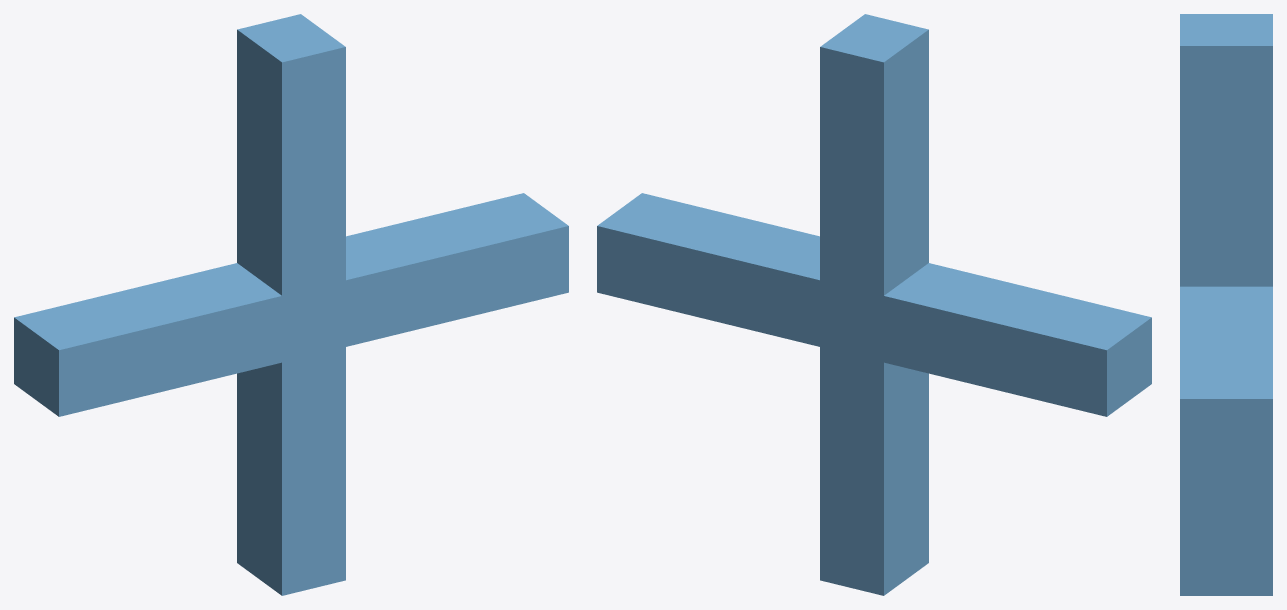
The picture shows the model from 3 angles, left to right: view 1: azimuth 30°, elevation 25°; view 2: azimuth 150°, elevation 25°; view 3: azimuth 270°, elevation 25°; orthographic projection. The views are drawn at different scales.
Visible parts, largest first — view 1: typeMesh1; view 2: typeMesh1; view 3: typeMesh1.
Boxes of the visible parts, x1,y1,x2,y2 form: typeMesh1: (14, 14, 568, 595); typeMesh1: (597, 14, 1151, 595); typeMesh1: (1180, 14, 1272, 595).
Bounding box in the file's own units: 9.82 × 9.82 × 1.5.
